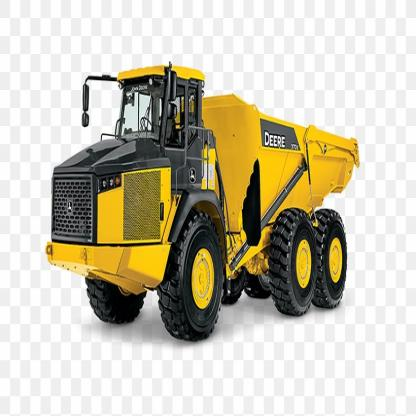dump_truck: (43, 54, 368, 341)
